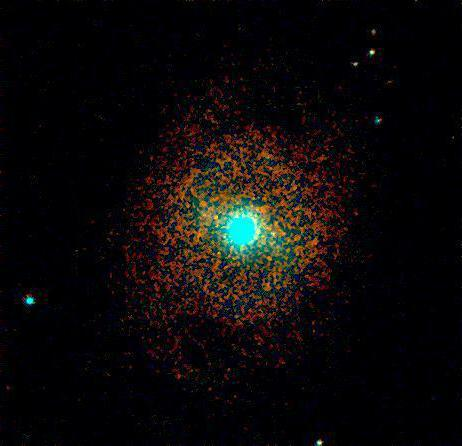star: (258, 217, 288, 247)
